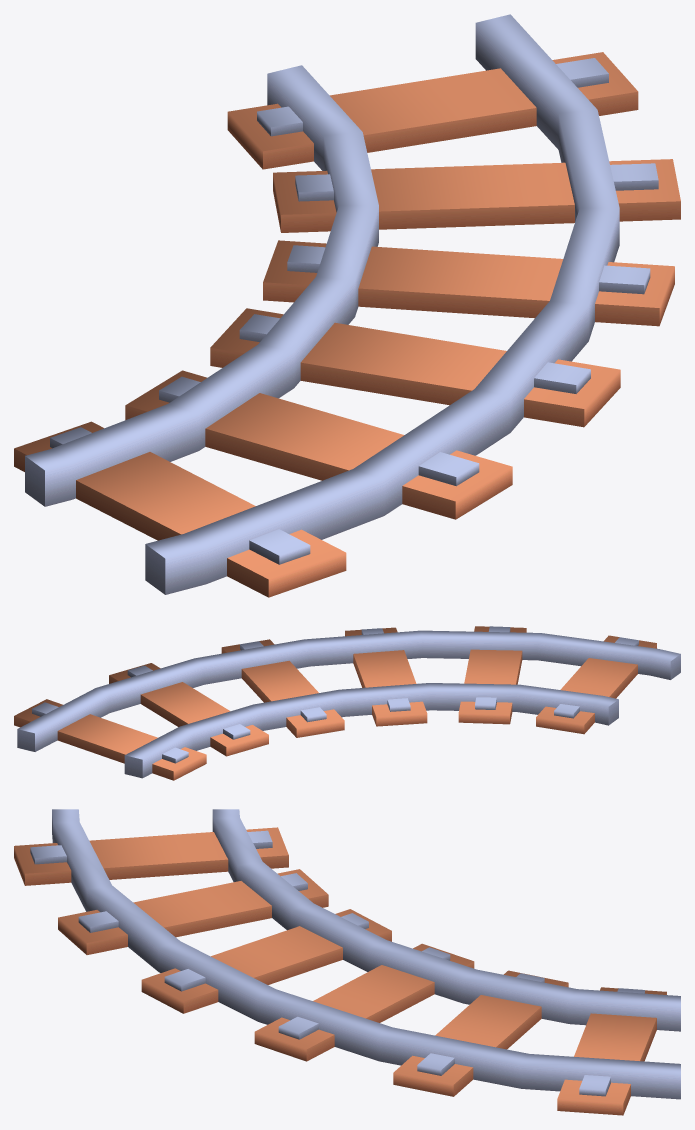
The model's file is kenney-train-railroad-corner-small.glb.
The picture shows the model from 3 angles, top to bottom: view 1: azimuth 30°, elevation 25°; view 2: azimuth 150°, elevation 25°; view 3: azimuth 270°, elevation 25°; orthographic projection. The views are drawn at different scales.
Visible parts, largest first — view 1: railroad-corner-small; view 2: railroad-corner-small; view 3: railroad-corner-small.
Part boxes in pixels (x1,y1,x2,y2): railroad-corner-small: (14,14,680,597); railroad-corner-small: (14,626,680,780); railroad-corner-small: (14,809,680,1115).
Bounding box in the file's own units: 2.49 × 0.1001 × 2.49.
Materials: 1 (1 with a texture image).
